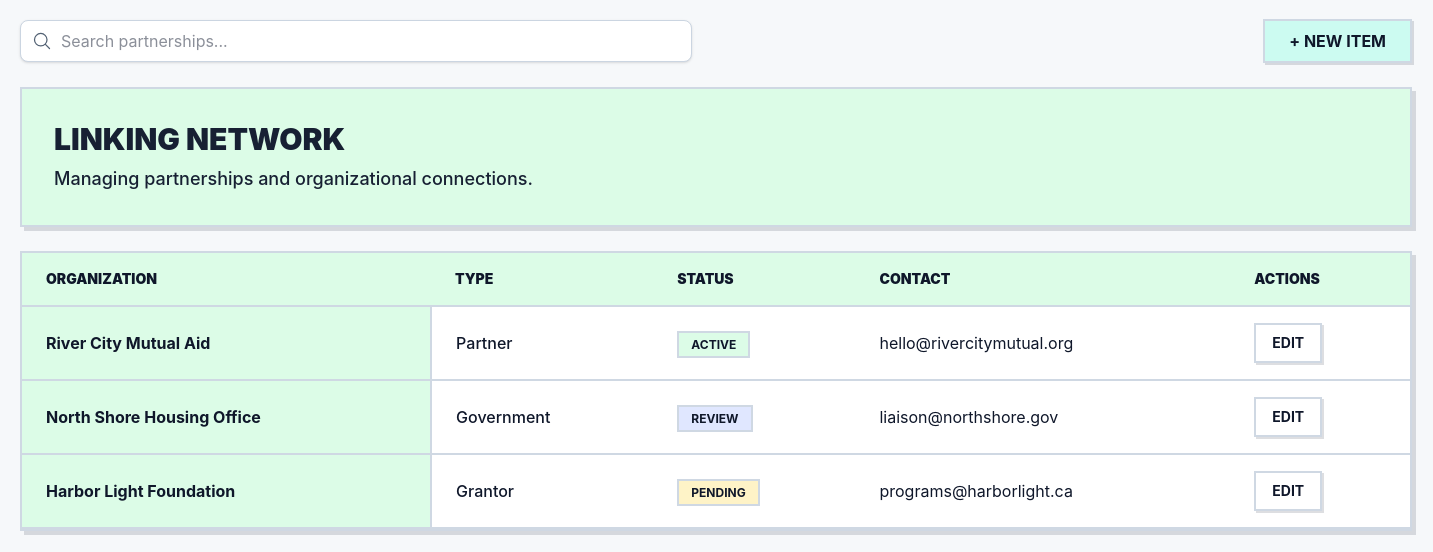
LinkingModulePage › filters visible organizations by status
Expected: the text "River City Mutual Aid" is shown, [22,306,431,380]
In the search field labelled "Search partnerships...": (356, 41) [20,20,692,62], type "active"
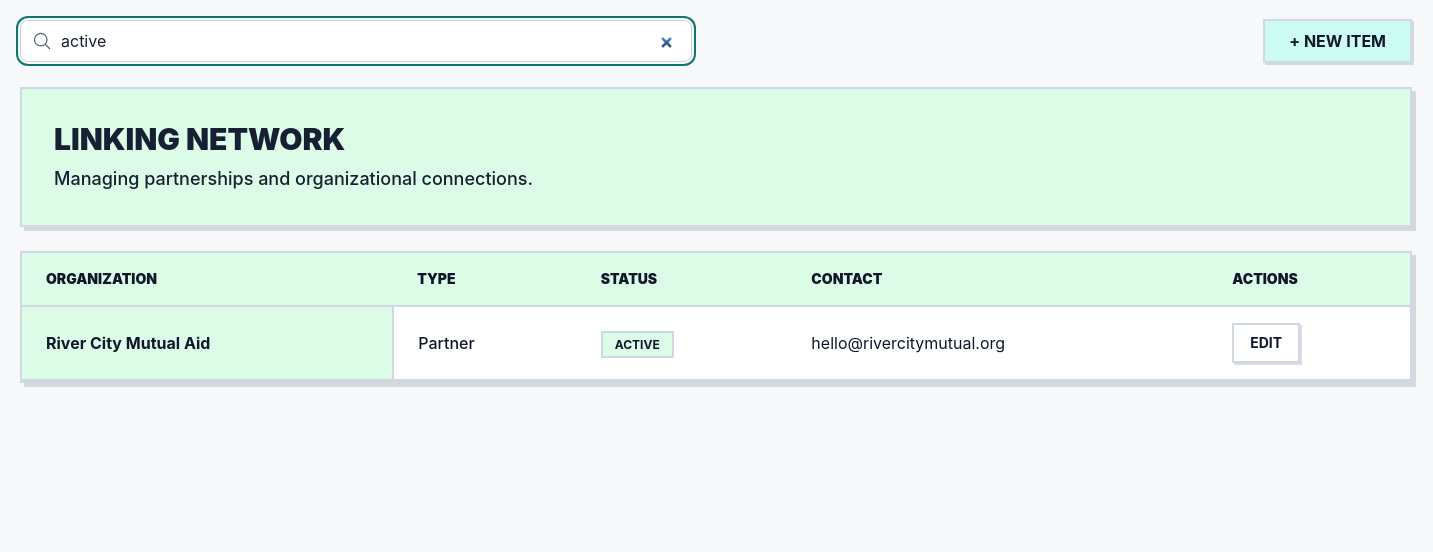
Expected: the text "River City Mutual Aid" is shown, [22,306,393,380]
Expected: the text "North Shore Housing Office" is gone
Expected: the text "Harbor Light Foundation" is gone
